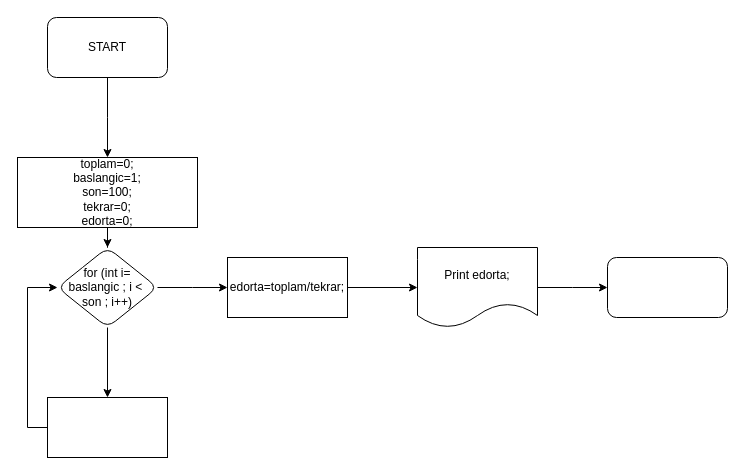
This 745x475 diagram has some shape labels left out. Here are the shapes that lost their labels. From the top down, the centre of each, then its label:
At point (667, 287): "STOP".
At point (107, 427): "toplam=toplam + i; tekrar++;".
